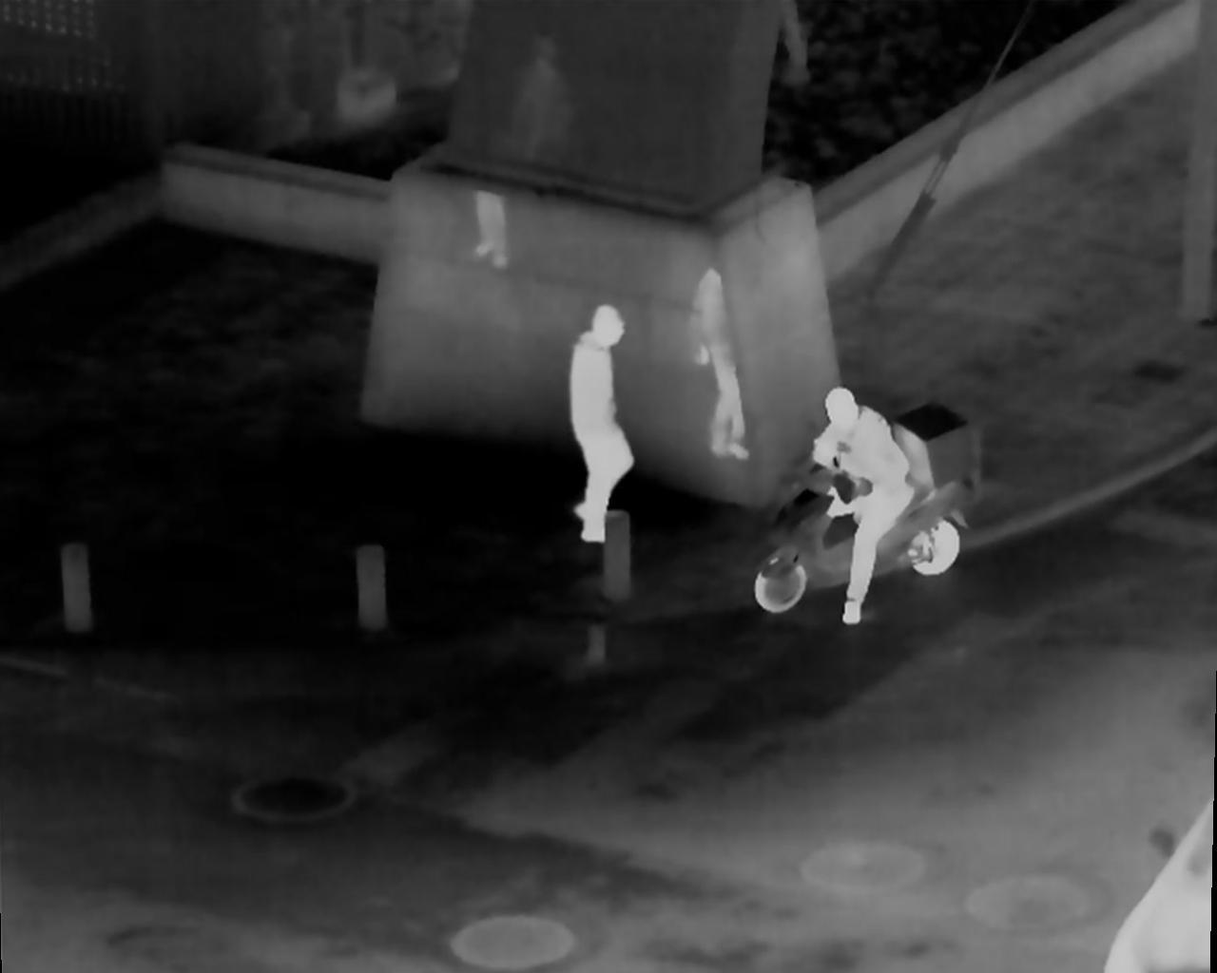person: (807, 388, 926, 639), (570, 304, 633, 542)
